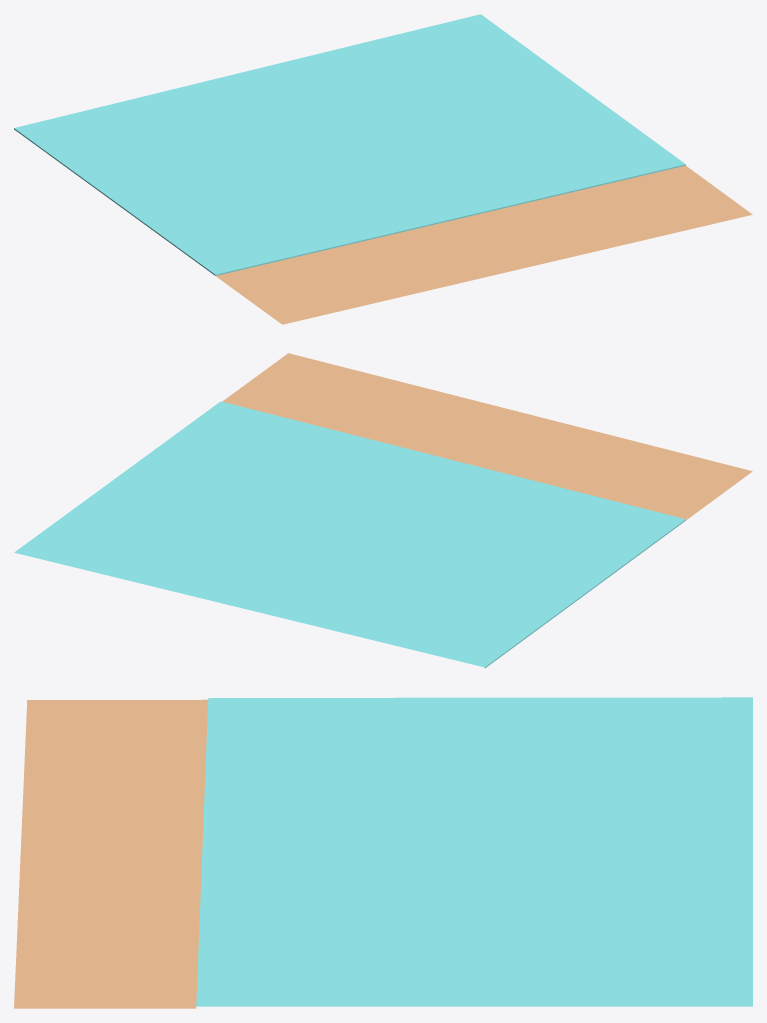
Rendered from sol1.FBX.
The picture shows the model from 3 angles, top to bottom: view 1: azimuth 30°, elevation 25°; view 2: azimuth 150°, elevation 25°; view 3: azimuth 270°, elevation 25°; orthographic projection. The views are drawn at different scales.
Parts seen in each view (by area): view 1: Object001; view 2: Object001; view 3: Object001.
Part boxes in pixels (box(x1,y1,x2,y2)): Object001: box(14, 14, 752, 324); Object001: box(14, 353, 752, 668); Object001: box(14, 697, 752, 1008).
Bounding box in the file's own units: 172 × 0.4686 × 174.
